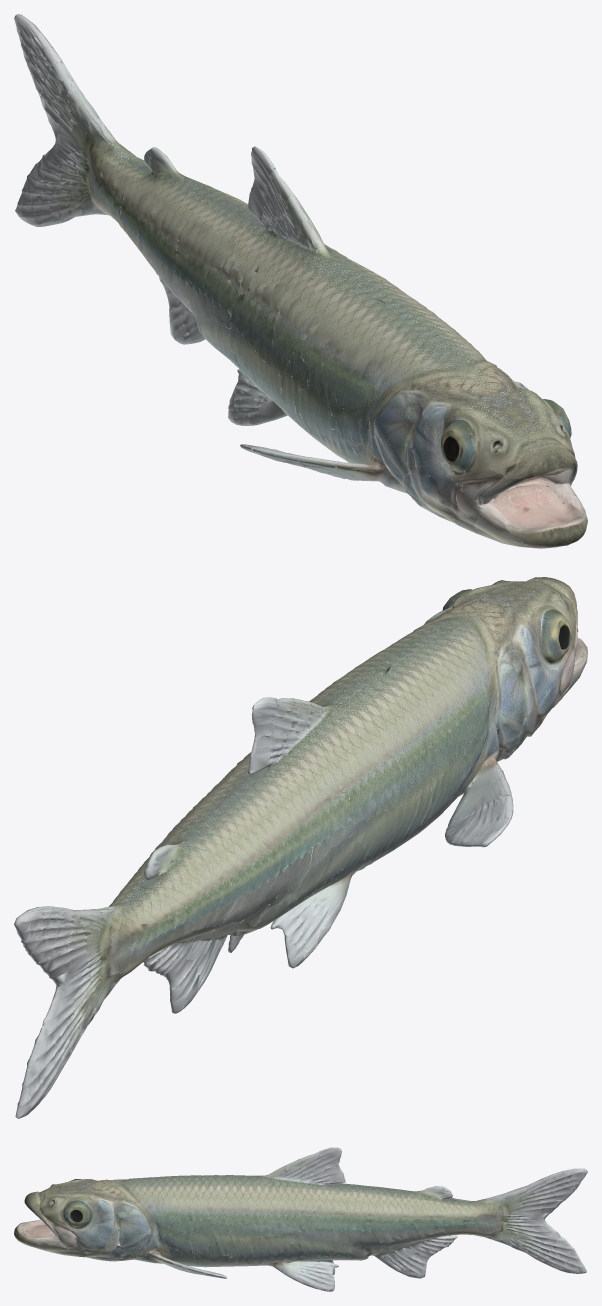
The model's file is stynka.glb.
3 views of the same model, one above another, from view 1: azimuth 30°, elevation 25°; view 2: azimuth 150°, elevation 25°; view 3: azimuth 270°, elevation 25° (orthographic). The views are drawn at different scales.
Visible parts, largest first — view 1: Mesh_0; view 2: Mesh_0; view 3: Mesh_0.
Part boxes in pixels (x1=…): Mesh_0: x1=14, y1=14, x2=587, y2=548; Mesh_0: x1=14, y1=577, x2=587, y2=1118; Mesh_0: x1=14, y1=1147, x2=587, y2=1291.
Bounding box in the file's own units: 0.5109 × 0.4989 × 1.9.
1 material, 1 textured.
